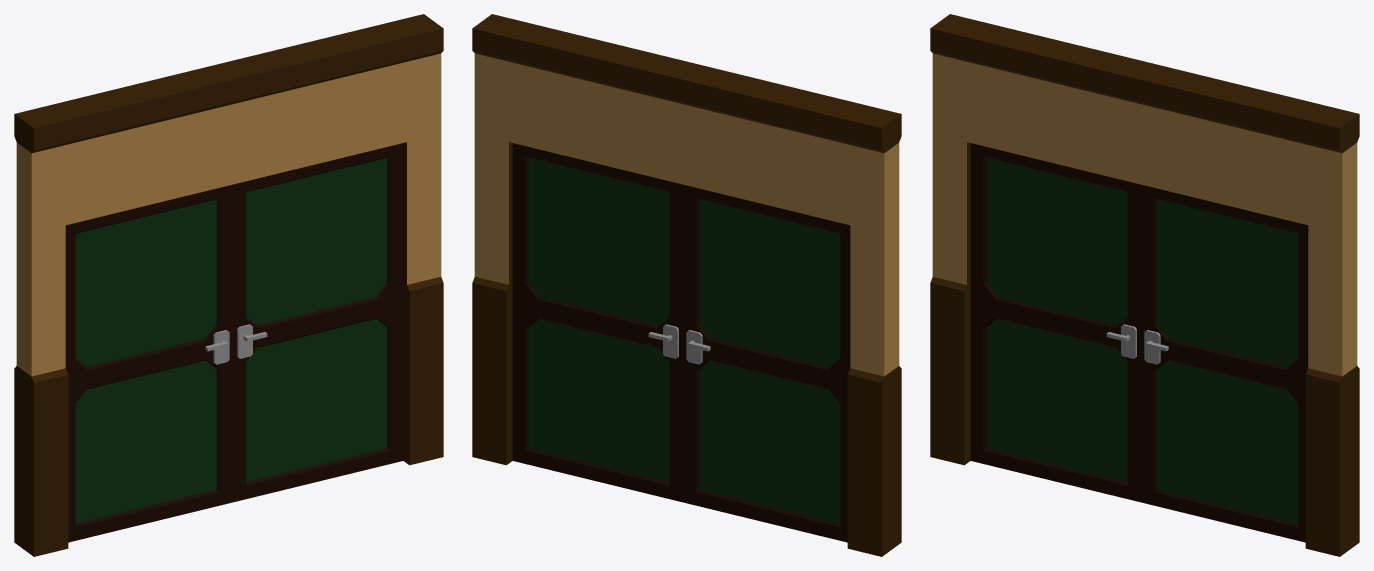
The model's file is Classic_WallDoubleDoors_01_snaps001.fbx.
3 renders of one model, left to right at view 1: azimuth 30°, elevation 25°; view 2: azimuth 150°, elevation 25°; view 3: azimuth 330°, elevation 25°, orthographic.
Visible parts, largest first — view 1: Classic_WallDoubleDoors_01_snaps001; view 2: Classic_WallDoubleDoors_01_snaps001; view 3: Classic_WallDoubleDoors_01_snaps001.
Part boxes in pixels (<box>): Classic_WallDoubleDoors_01_snaps001: <box>14,14,443,556</box>; Classic_WallDoubleDoors_01_snaps001: <box>472,14,901,556</box>; Classic_WallDoubleDoors_01_snaps001: <box>930,14,1359,556</box>.
Size of the model in its own units: 300 by 300 by 25.
